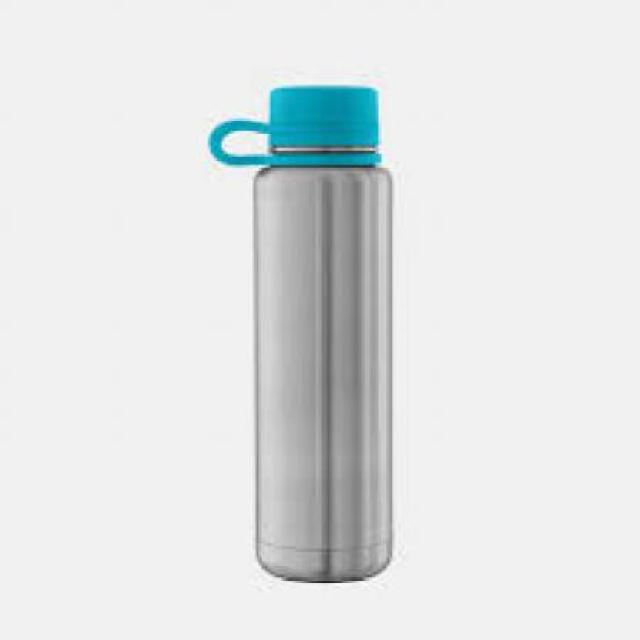Drinking: (219, 68, 404, 600)
